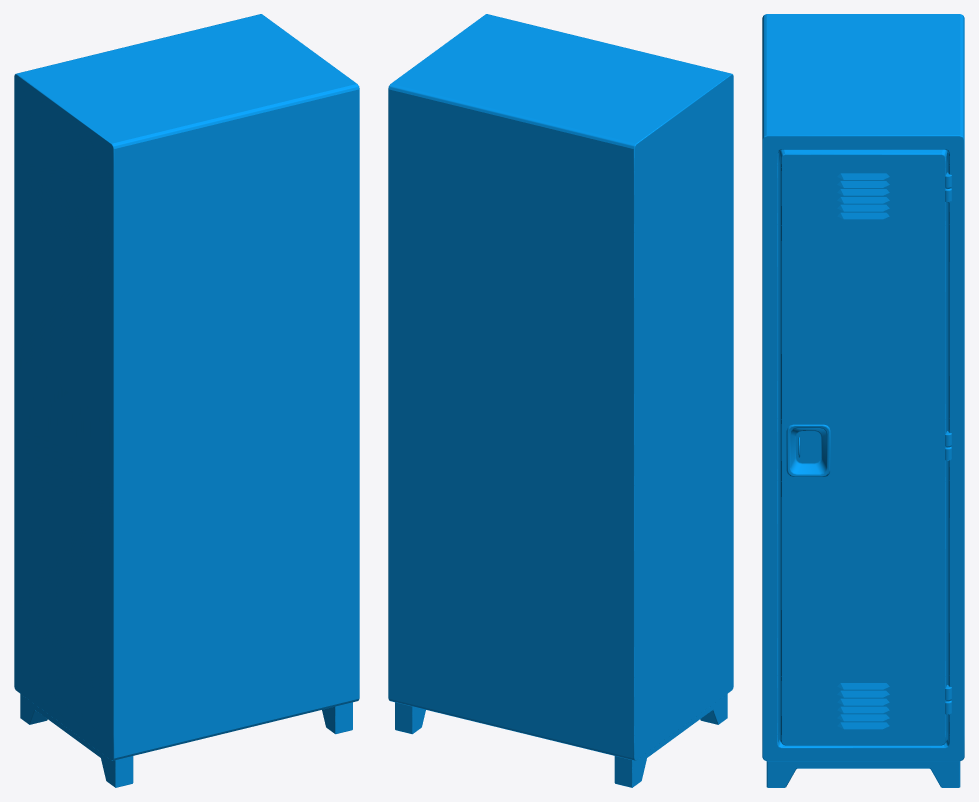
The model's file is Locker.fbx.
3 renders of one model, left to right at view 1: azimuth 30°, elevation 25°; view 2: azimuth 150°, elevation 25°; view 3: azimuth 270°, elevation 25°, orthographic.
Parts seen in each view (by area): view 1: Locker; view 2: Locker; view 3: Locker.
Boxes of the visible parts, box(x1,y1,x2,y2) form: Locker: box(14, 14, 359, 787); Locker: box(388, 14, 733, 787); Locker: box(762, 14, 964, 787).
Size of the model in its own units: 102 by 250 by 70.
